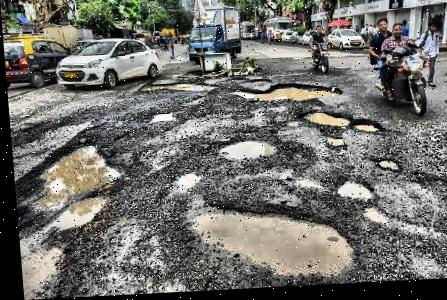pothole: (181, 199, 352, 286), (11, 141, 123, 232), (15, 234, 64, 299), (227, 81, 340, 108), (215, 138, 274, 165), (139, 80, 216, 97), (297, 110, 348, 132), (334, 181, 370, 205), (357, 209, 386, 228), (350, 121, 378, 138), (372, 159, 398, 177), (171, 173, 198, 187), (145, 111, 172, 125), (321, 138, 342, 149)
